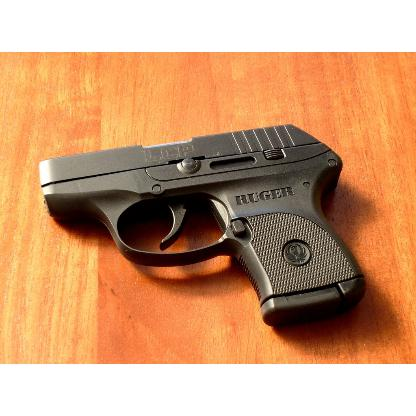gun: (38, 124, 364, 324)
